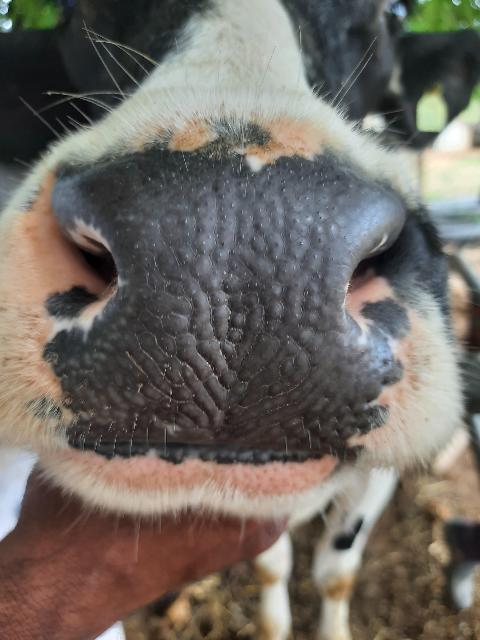Muzzle: (119, 165, 341, 437)
